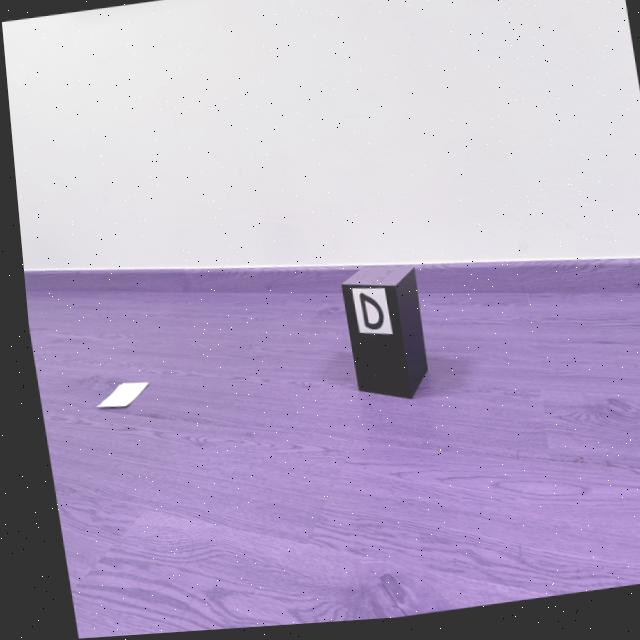A: (2, 0, 640, 271)
